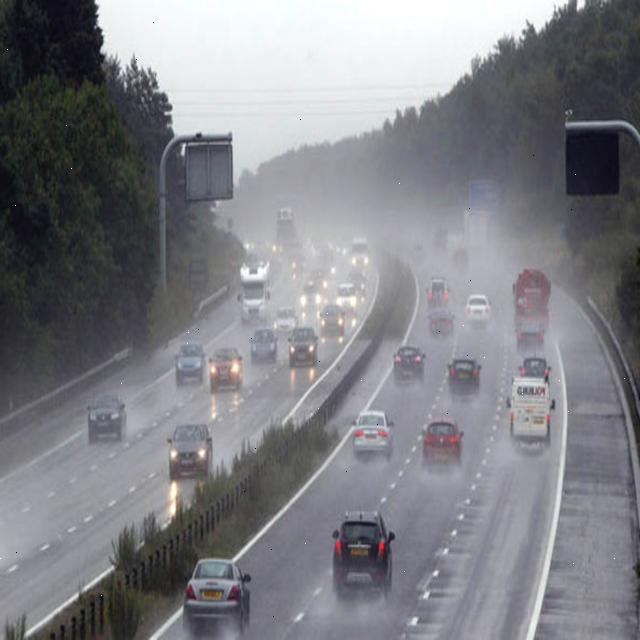Car: (331, 508, 396, 602), (182, 556, 251, 638), (506, 379, 554, 459), (167, 418, 212, 478), (421, 416, 464, 464), (352, 409, 394, 458), (88, 392, 126, 442), (209, 346, 243, 390), (174, 341, 206, 385), (392, 344, 426, 382), (286, 326, 318, 366), (446, 356, 482, 390), (250, 327, 278, 362), (464, 293, 492, 327), (319, 303, 346, 336), (427, 304, 455, 335), (519, 355, 551, 382), (426, 276, 450, 309), (274, 304, 298, 334), (336, 282, 357, 314), (316, 243, 336, 270), (350, 237, 368, 266), (305, 269, 324, 295), (349, 271, 367, 296), (299, 238, 317, 263), (452, 245, 469, 268), (434, 227, 448, 253), (332, 240, 349, 260), (289, 253, 300, 274), (326, 258, 338, 277), (413, 241, 424, 256)
Truck: (512, 266, 553, 337), (238, 257, 270, 322), (464, 208, 490, 256), (275, 206, 297, 249)
